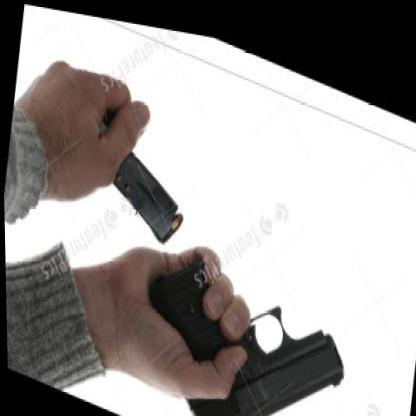pistol: (123, 225, 363, 412)
